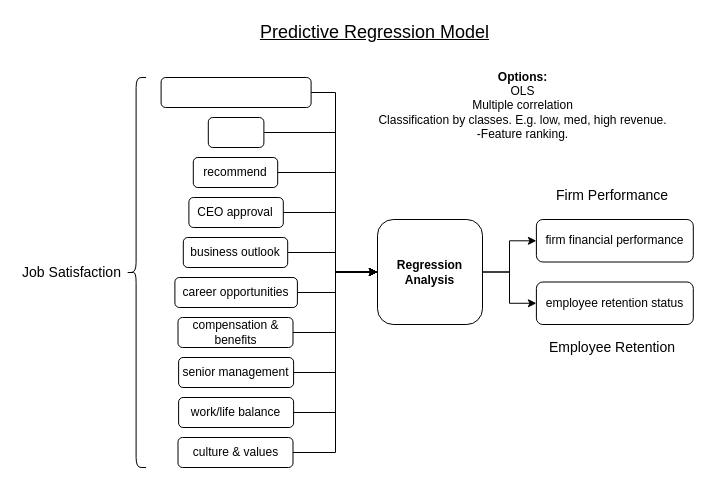
Image size: 711x485. Some labels were removed from this diagram. The box of each missing label's shape, as (x1, y1, x2, y2) in pixels:
rating: (207, 116, 264, 148)
sentiment analysis score: (160, 76, 311, 108)
